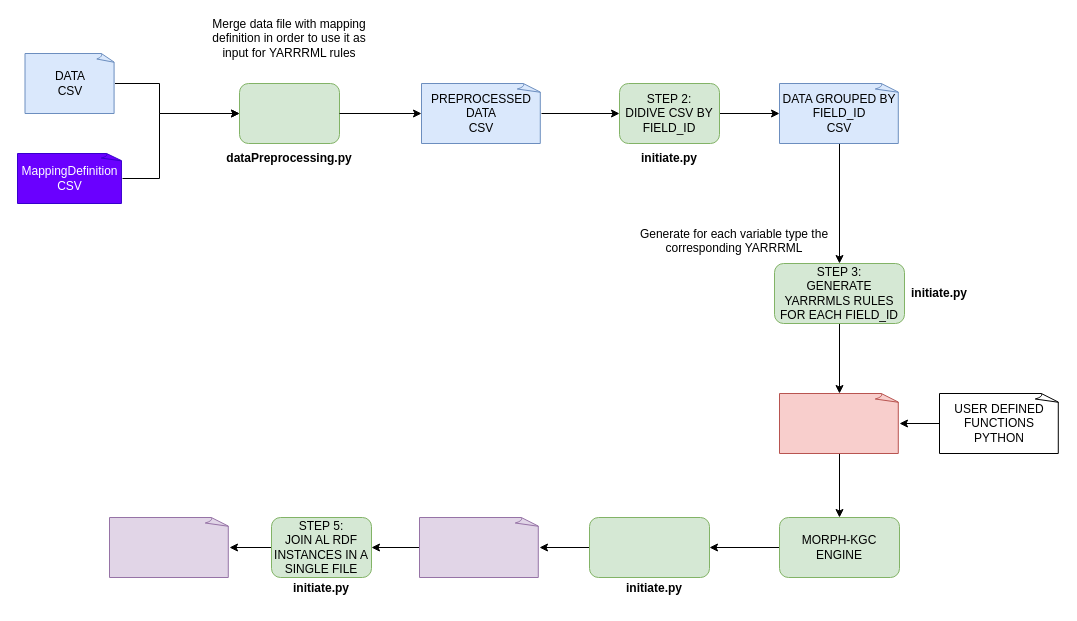
This 1077x621 diagram has some shape labels left out. The shapes that lost their labels are listed below. From the top down, each one's box as (x1, y1, x2, y2) in pixels, then its label:
(238, 82, 340, 144): STEP 1: Preprocessing
(778, 392, 900, 454): YARRRML RULES FOR EACH FIELD_ID
(108, 516, 230, 578): RDF INSTANCE FOR ALL DATA
(418, 516, 540, 578): RDF INSTANCE FOR A FIELD_ID
(588, 516, 710, 578): STEP 4: RDF INSTANCE GENERATION
